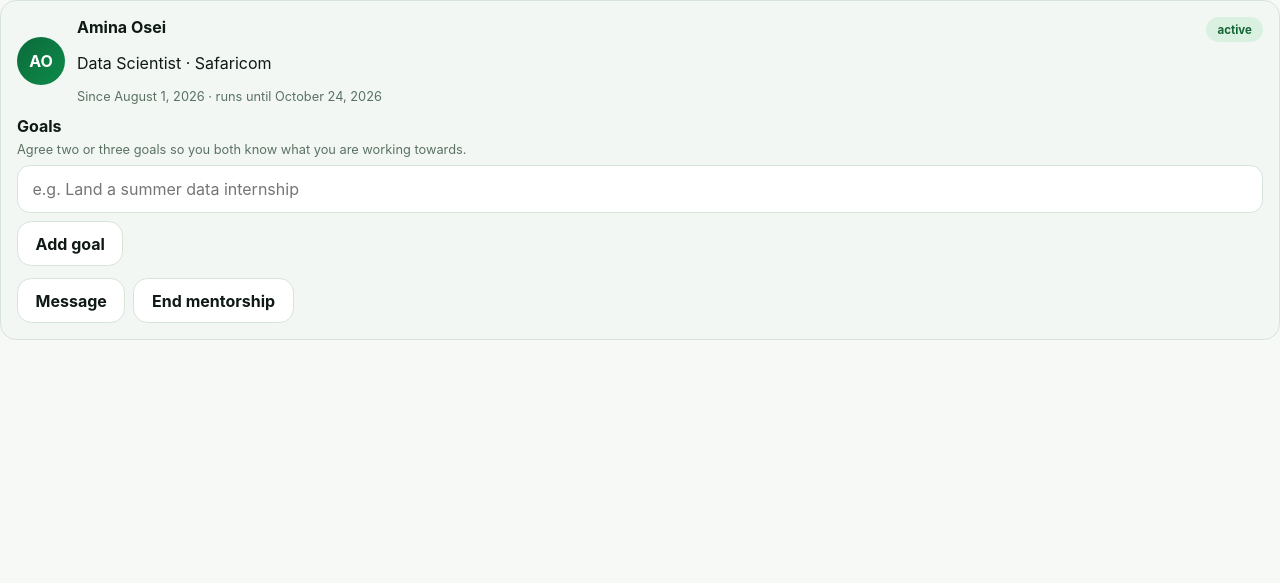
MentorshipCard › ends a mentorship after confirmation, sending the reason
This screenshot has width=1280, height=583.
Click the button with aria-label "End mentorship with Amina Osei". click: x=214, y=300
box: 134,278 -> 294,323
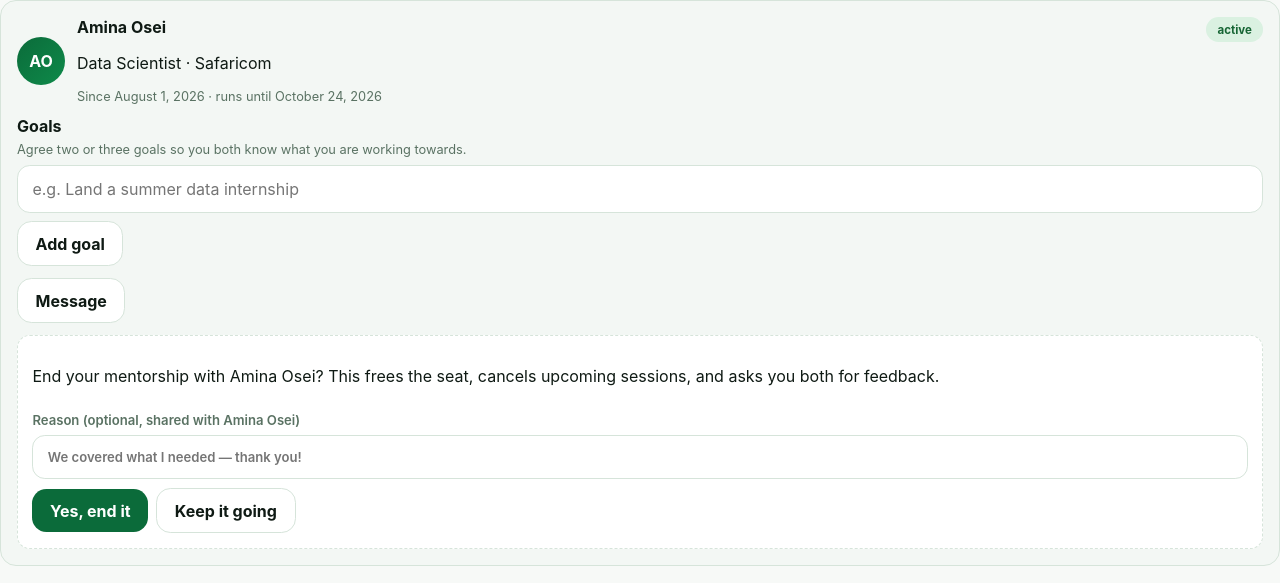
Type "Got the internship" into the field with placeholder "We covered what I needed — thank you!". click: x=640, y=457
box: 32,435 -> 1248,479
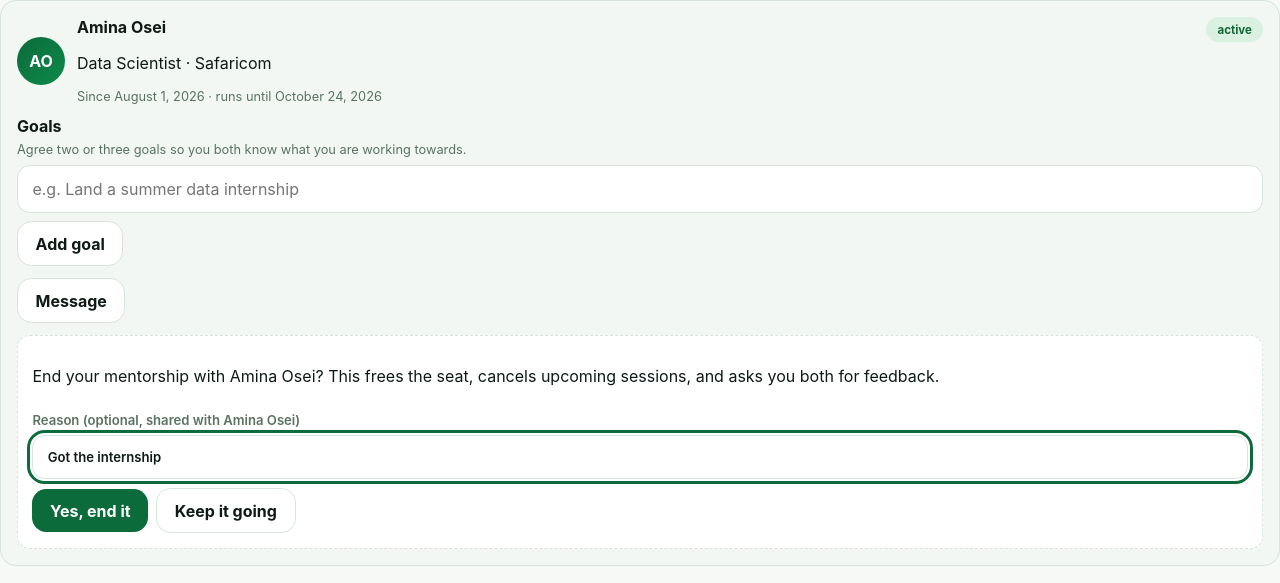
Click the button "Yes, end it". click: x=90, y=511
box: 32,489 -> 148,532
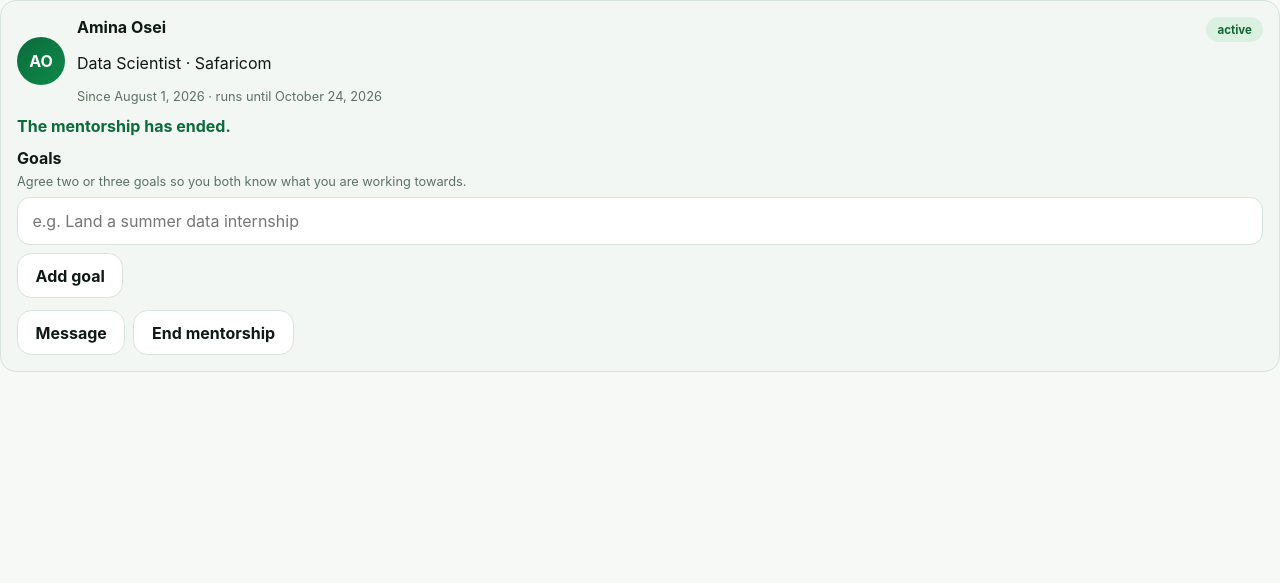
Result: the text "The mentorship has ended." is shown at 17,116 -> 231,136
